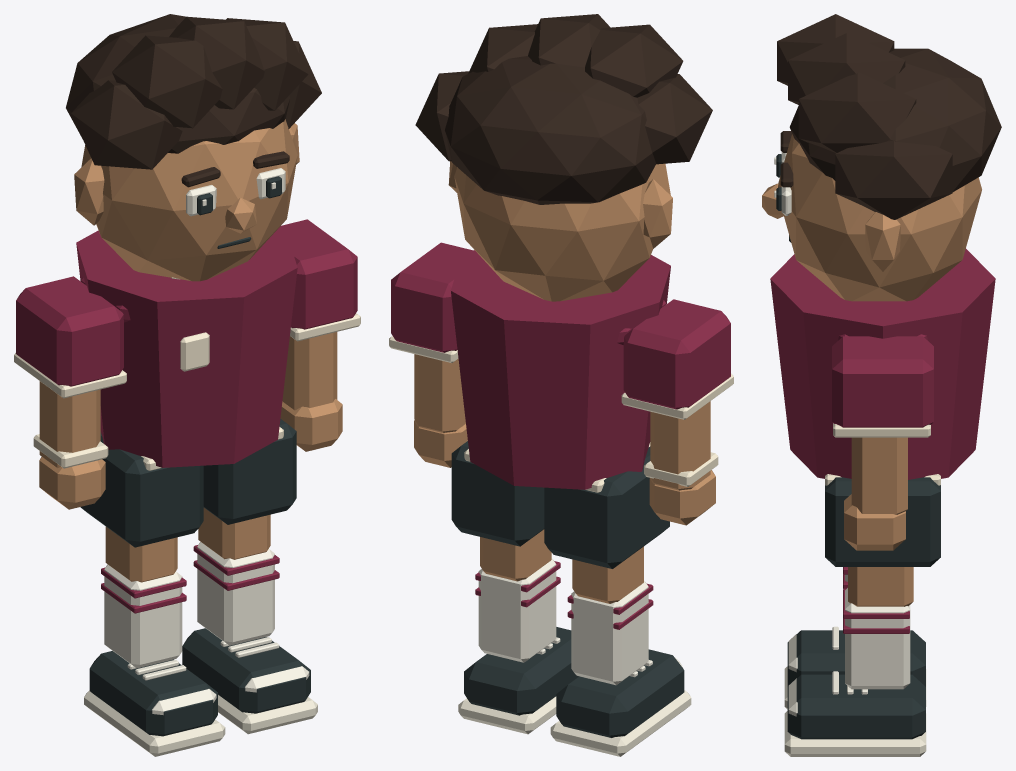
The model's file is athlete-v1.glb.
The picture shows the model from 3 angles, left to right: view 1: azimuth 30°, elevation 25°; view 2: azimuth 150°, elevation 25°; view 3: azimuth 270°, elevation 25°; orthographic projection.
Parts seen in each view (by area): view 1: head_mesh, Athlete_mesh, leg_L_mesh, leg_R_mesh, arm_L_mesh, arm_R_mesh; view 2: head_mesh, Athlete_mesh, leg_L_mesh, leg_R_mesh, arm_L_mesh, arm_R_mesh; view 3: head_mesh, Athlete_mesh, leg_R_mesh, arm_R_mesh, leg_L_mesh.
Part boxes in pixels (x1,y1,x2,y2): head_mesh: (66,14,321,281); Athlete_mesh: (76,228,297,470); leg_L_mesh: (80,432,225,756); leg_R_mesh: (182,419,317,734); arm_L_mesh: (14,276,126,509); arm_R_mesh: (278,219,360,451); head_mesh: (415,14,712,301); Athlete_mesh: (451,250,670,492); leg_L_mesh: (544,446,691,756); leg_R_mesh: (451,441,578,734); arm_L_mesh: (621,299,733,525); arm_R_mesh: (389,242,472,467); head_mesh: (762,14,1001,301); Athlete_mesh: (770,248,995,485); leg_R_mesh: (784,477,940,756); arm_R_mesh: (832,336,933,550); leg_L_mesh: (784,567,926,709).
Bounding box in the file's own units: 0.94 × 2.07 × 0.6595.
